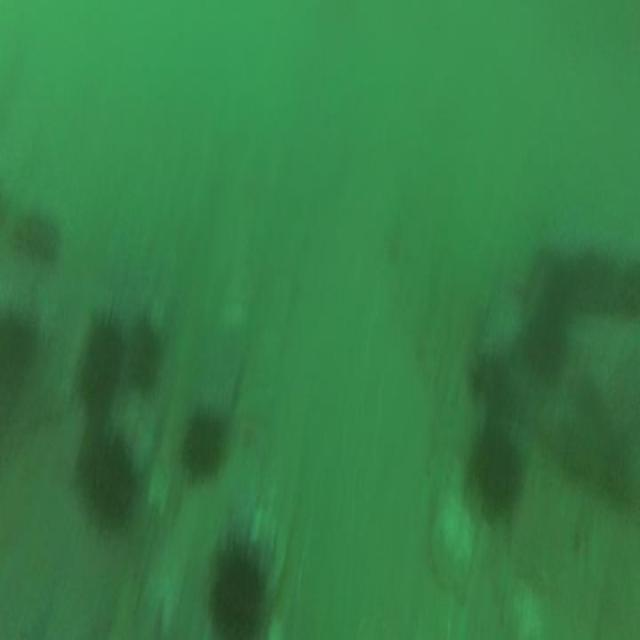echinus: (199, 518, 279, 640), (58, 422, 143, 531), (64, 297, 125, 417), (464, 408, 524, 520), (175, 403, 235, 496), (121, 297, 168, 398)
